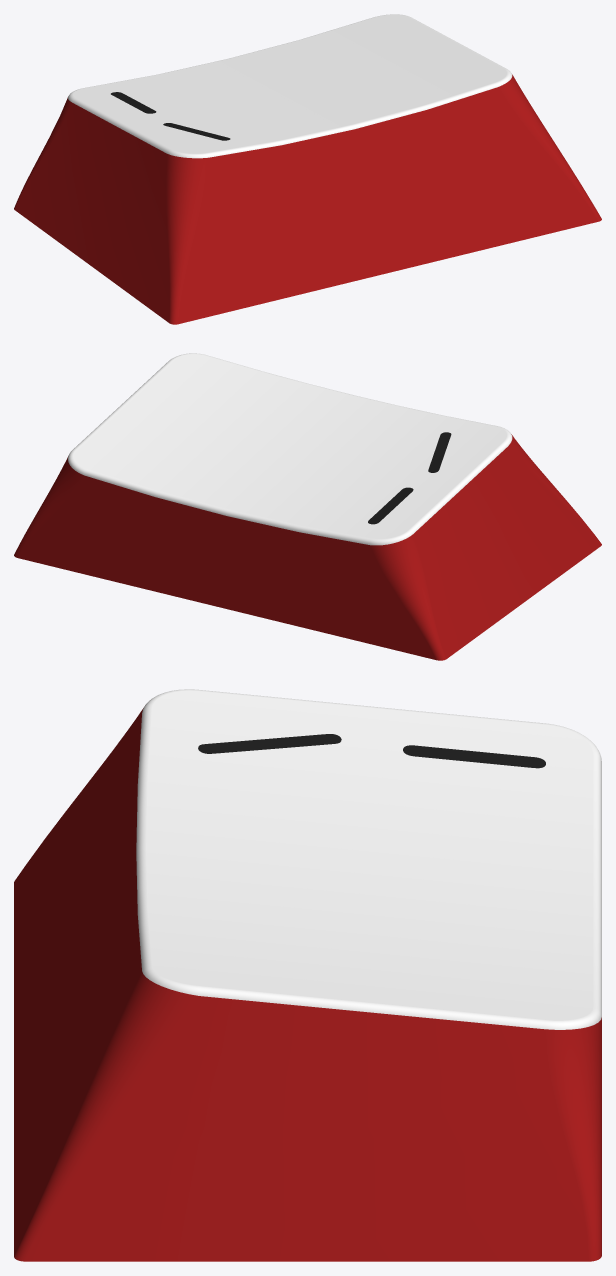
File: Backslash 150.fbx
3 views of the same model, one above another, from view 1: azimuth 30°, elevation 25°; view 2: azimuth 150°, elevation 25°; view 3: azimuth 270°, elevation 25° (orthographic). The views are drawn at different scales.
Parts seen in each view (by area): view 1: Body1; view 2: Body1; view 3: Body1.
Boxes of the visible parts, left/top/right/bottom form: Body1: left=14, top=14, right=601, bottom=324; Body1: left=14, top=353, right=601, bottom=660; Body1: left=14, top=689, right=601, bottom=1261.
Bounding box in the file's own units: 27.81 × 7.89 × 18.
